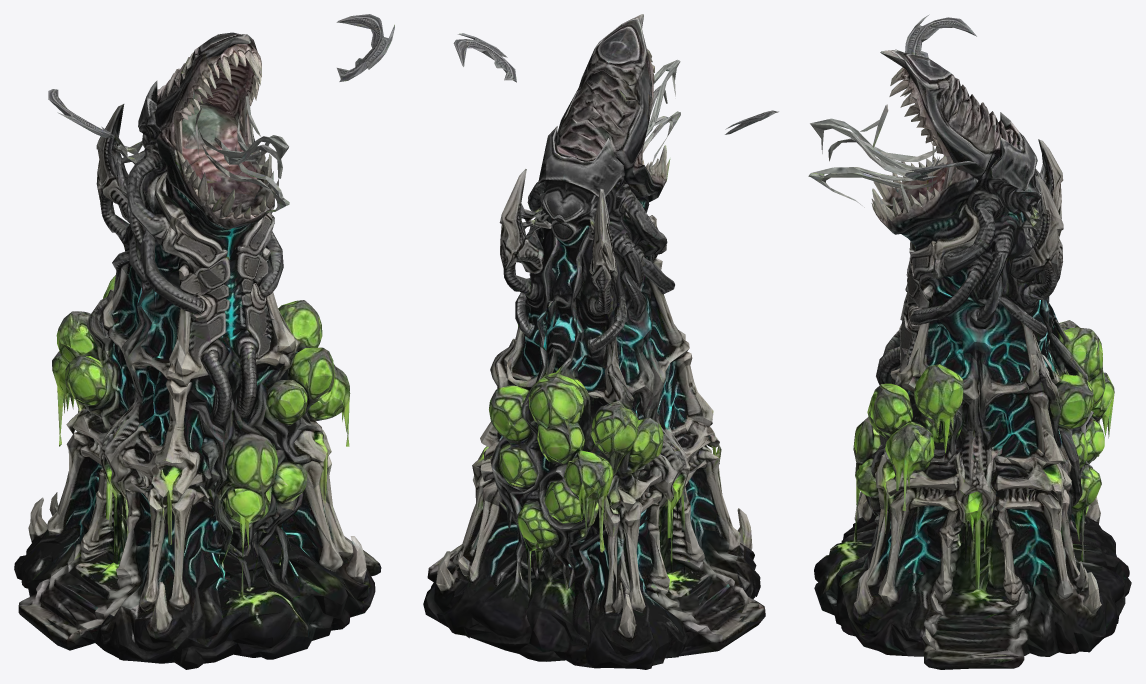
Rendered from model.opt.glb.
3 renders of one model, left to right at view 1: azimuth 30°, elevation 25°; view 2: azimuth 150°, elevation 25°; view 3: azimuth 270°, elevation 25°, orthographic. The views are drawn at different scales.
Parts seen in each view (by area): view 1: Mesh_0; view 2: Mesh_0; view 3: Mesh_0.
Boxes of the visible parts, x1,y1,x2,y2 form: Mesh_0: (14,14,394,669); Mesh_0: (423,14,778,669); Mesh_0: (808,14,1131,669).
Size of the model in its own units: 1.16 by 1.9 by 1.02.
1 material, 1 textured.
